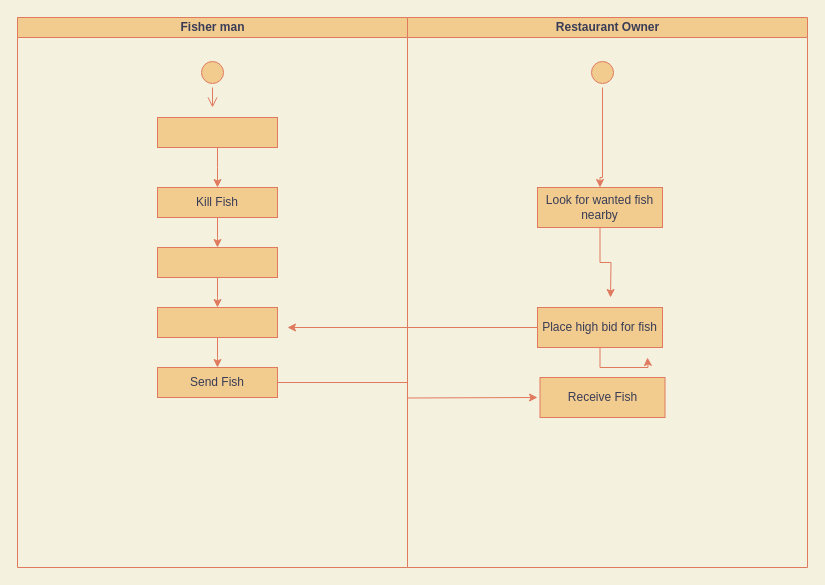
Some shapes in this 825 by 585 pixel diagram are drawn without their labels. The centre of each missing label's shape, as x and y in pixels:
Accept highest bid: [217,322]
Advertise Fish: [217,262]
Go Fishing: [217,132]
